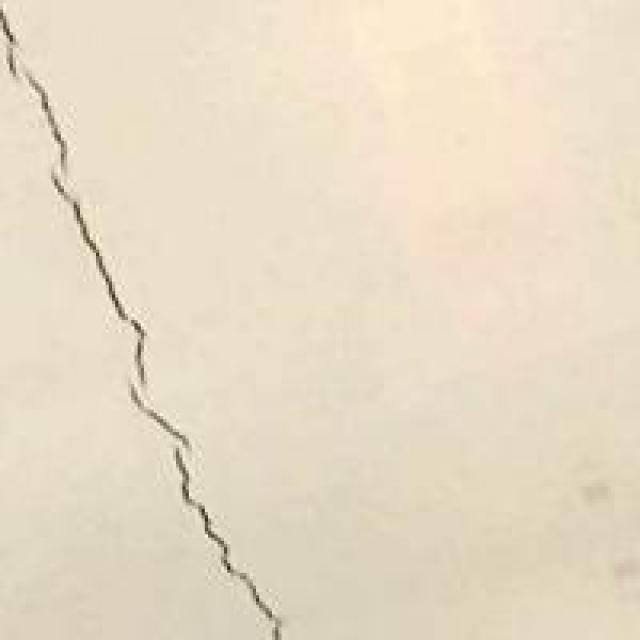Crack: (0, 0, 326, 637)
